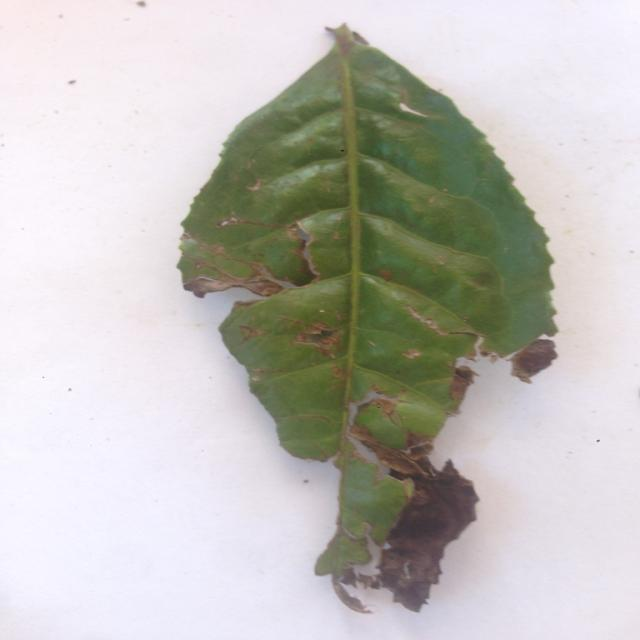Brown Blight: (176, 11, 563, 620)
